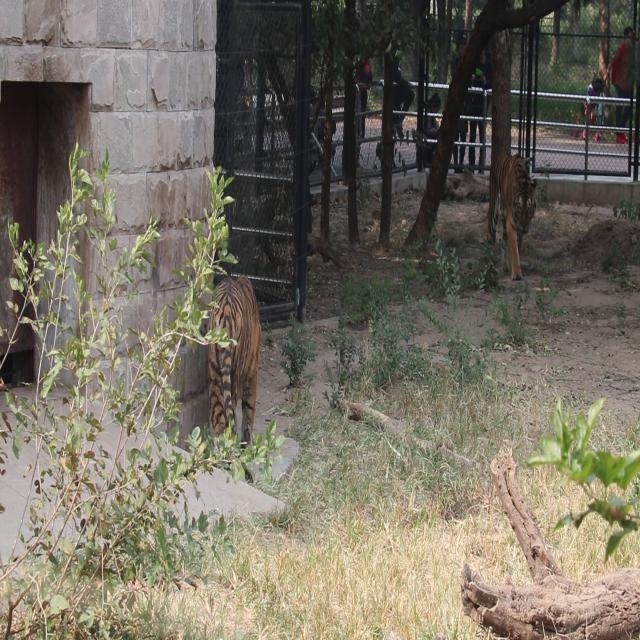Tiger: (198, 261, 295, 461), (481, 155, 556, 281)
